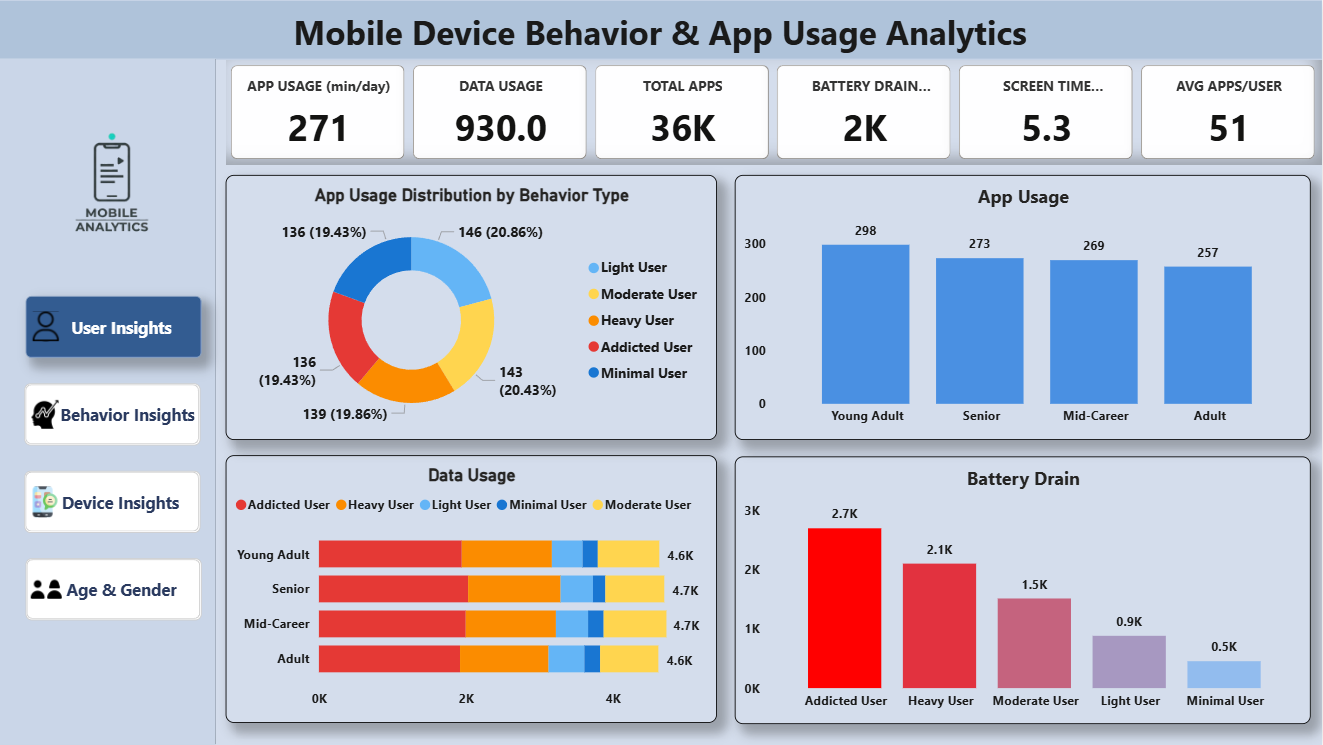

The page's visual inventory and layout, read from the dashboard file:
{"tool":"powerbi","page":{"name":"User Insights","canvas":[1280,720],"ordinal":0},"visuals":[{"type":"shape","box":[0,0,1280.5,58],"z":0},{"type":"shape","box":[0,57.1,210,662.9],"z":1000},{"type":"actionButton","box":[27.1,285.7,170,60],"z":2000},{"type":"actionButton","box":[25.7,370.5,170,60],"z":3000},{"type":"actionButton","box":[25.7,455.2,170,60],"z":4000},{"type":"actionButton","box":[27.1,540,170,60],"z":5000},{"type":"cardVisual","title":"APP USAGE","fields":{"Data":["Calculate.AvgUse","Calculate.AvgData","Calculate.TotalApps","Calculate.AvgBatt","Calculate.AvgScreen","Calculate.AvgAppsUser"]},"box":[219.9,57.7,1060.6,101.9],"z":6000},{"type":"clusteredColumnChart","title":" App Usage ","fields":{"Y":["Calculate.Average Use"],"Category":["Dim_AgeBands.AgeGroup"]},"box":[712,168.9,556.4,256.1],"z":7000},{"type":"donutChart","title":"App Usage Distribution by Behavior Type","fields":{"Y":["Calculate.Users"],"Category":["Dim_BehaviorTypes.Behavior Label"]},"box":[219.9,168.9,474.7,256.1],"z":8000},{"type":"barChart","title":" Data Usage ","fields":{"Y":["Calculate.Average Data"],"Category":["Dim_AgeBands.AgeGroup"],"Series":["Dim_BehaviorTypes.Behavior Label"]},"box":[219.9,439.8,474.7,258.8],"z":9000},{"type":"clusteredColumnChart","title":"Battery Drain","fields":{"Category":["Dim_BehaviorTypes.Behavior Label"],"Y":["Calculate.Average Battery"]},"box":[712,441.1,556.4,258.8],"z":10000},{"type":"image","box":[0,65.7,220,220],"z":11000}]}

Visuals, with their boxes in screenshot pixels (x1, y1, x2, y2), scaled from the page's 1280x720 canvas onto the 1323x745 screenshot:
shape: left=0, top=0, right=1322, bottom=60
shape: left=0, top=59, right=217, bottom=744
actionButton: left=28, top=296, right=204, bottom=358
actionButton: left=27, top=383, right=202, bottom=445
actionButton: left=27, top=471, right=202, bottom=533
actionButton: left=28, top=559, right=204, bottom=621
"APP USAGE" cardVisual: left=227, top=60, right=1322, bottom=165
" App Usage " clusteredColumnChart: left=736, top=175, right=1311, bottom=440
"App Usage Distribution by Behavior Type" donutChart: left=227, top=175, right=718, bottom=440
" Data Usage " barChart: left=227, top=455, right=718, bottom=723
"Battery Drain" clusteredColumnChart: left=736, top=456, right=1311, bottom=724
image: left=0, top=68, right=227, bottom=296
